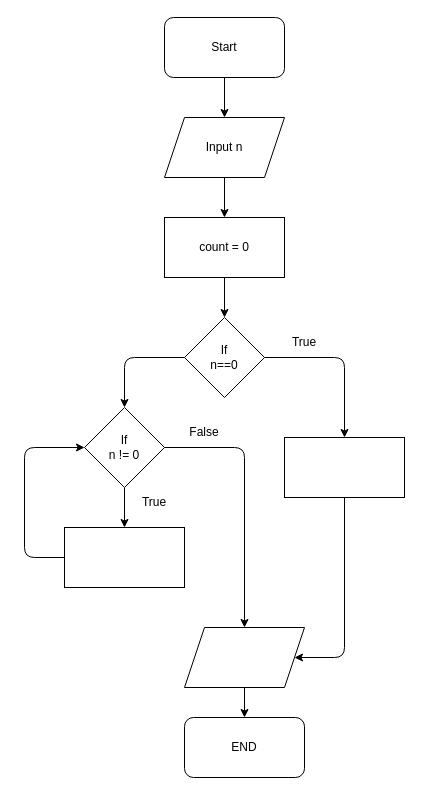
Image size: 422x795. Some labels were removed from this diagram. The shapes that lost their labels are listed below. From the top down, each one's centre as x and y in pixels, then its label:
point (344, 467): count = 1
point (124, 557): count++ n /= 10
point (244, 657): Print count
